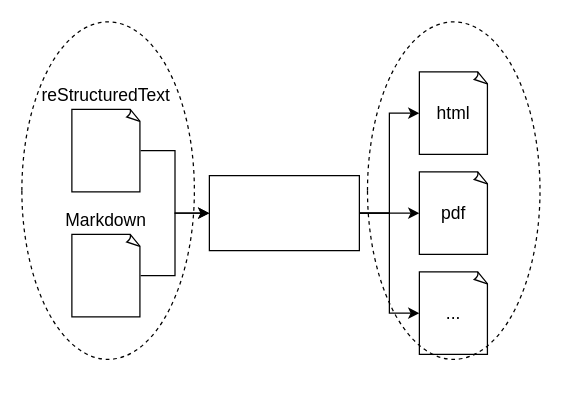
Image size: 563x411. Some labels were removed from this diagram. The shapes that lost their labels are listed below. From the top down, each one's box as (x1, y1, x2, y2) in pixels, then its label:
(21, 21, 194, 359): Input languages
(366, 21, 540, 359): Target Languages
(208, 174, 359, 251): Sphinx
